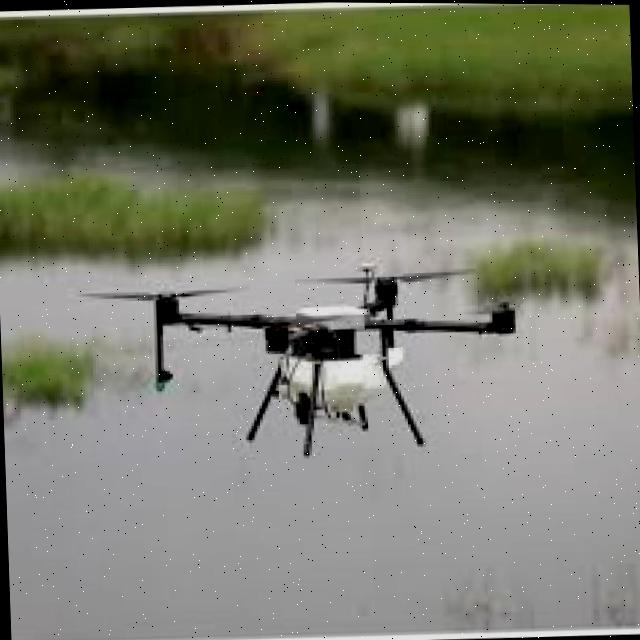drone: (76, 240, 548, 487)
